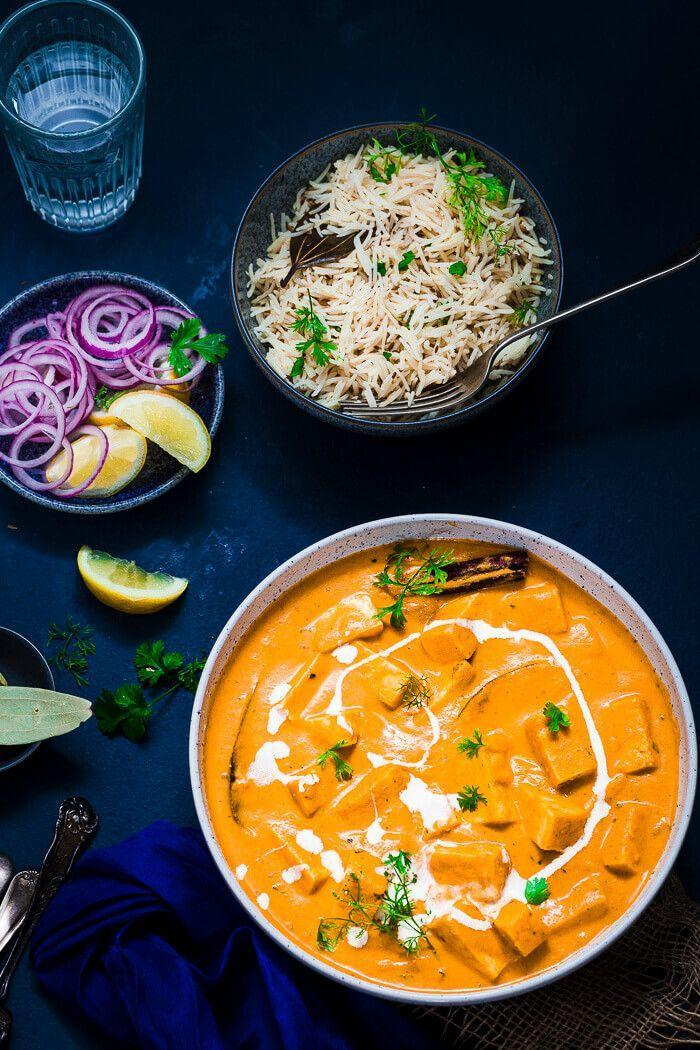paneer: (190, 526, 681, 1014)
